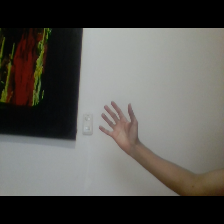left: (96, 98, 148, 157)
